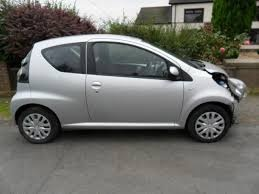Broken-glass: (211, 71, 246, 101)
